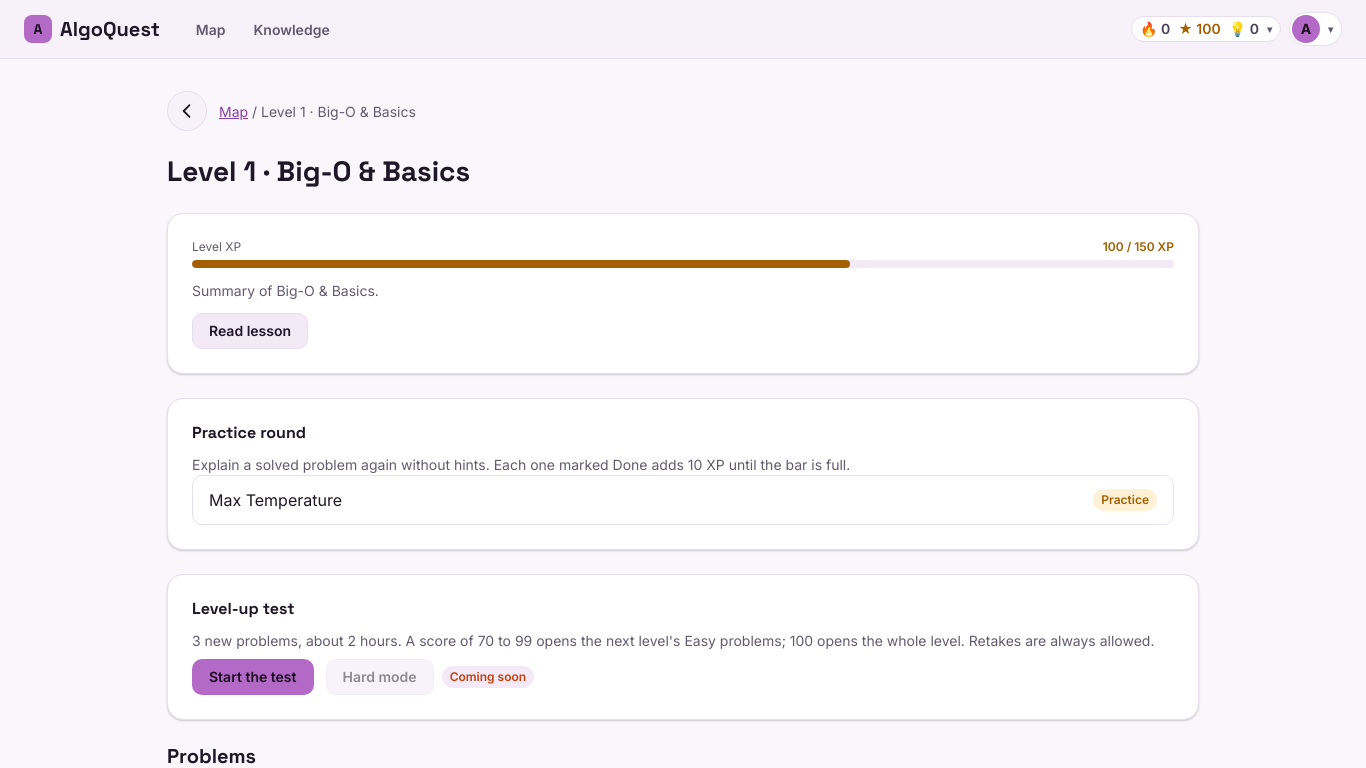
Test: level-up test › keeps unrelated API errors visible without a blocking-test link
The image size is (1366, 768).
Click the button "Start the test". click: click(253, 677)
box: [192, 659, 314, 695]
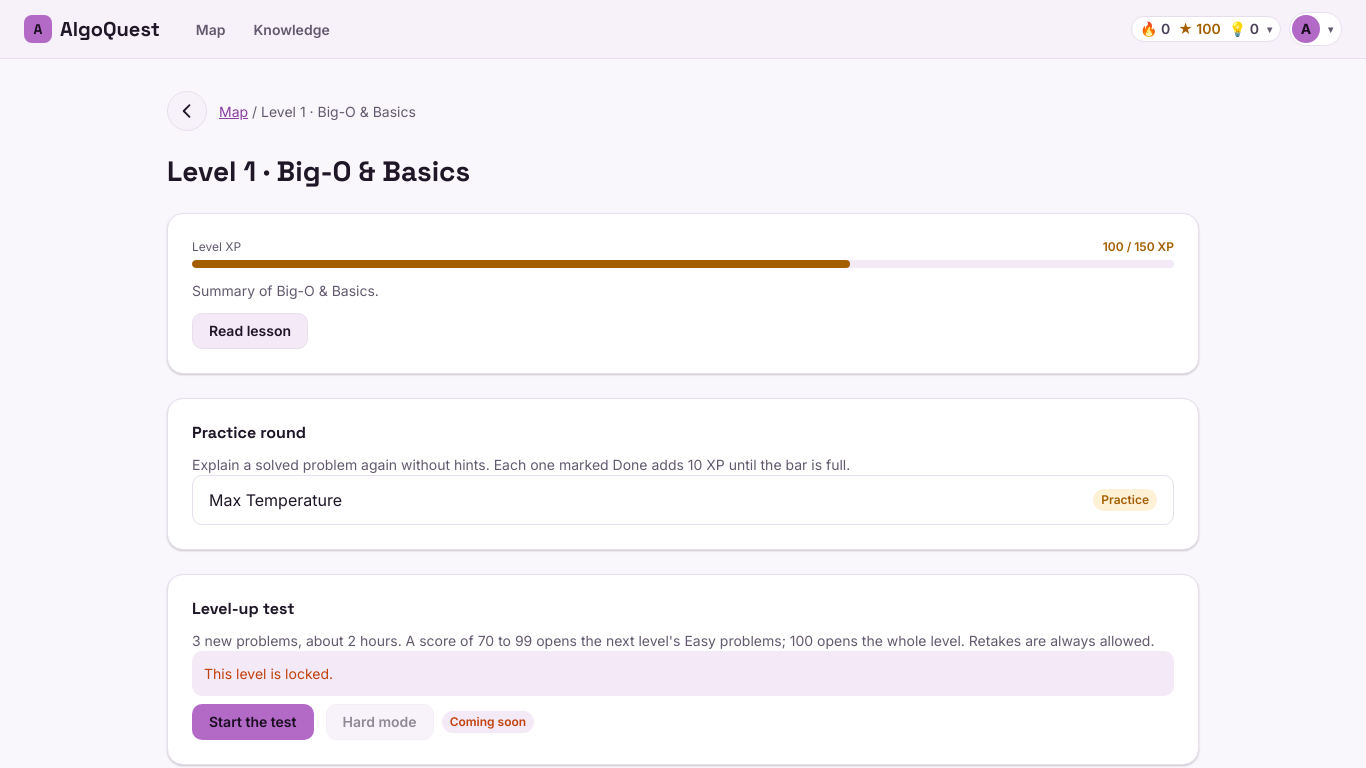
Result: the message reads "This level is locked." at [204, 665, 333, 682]
